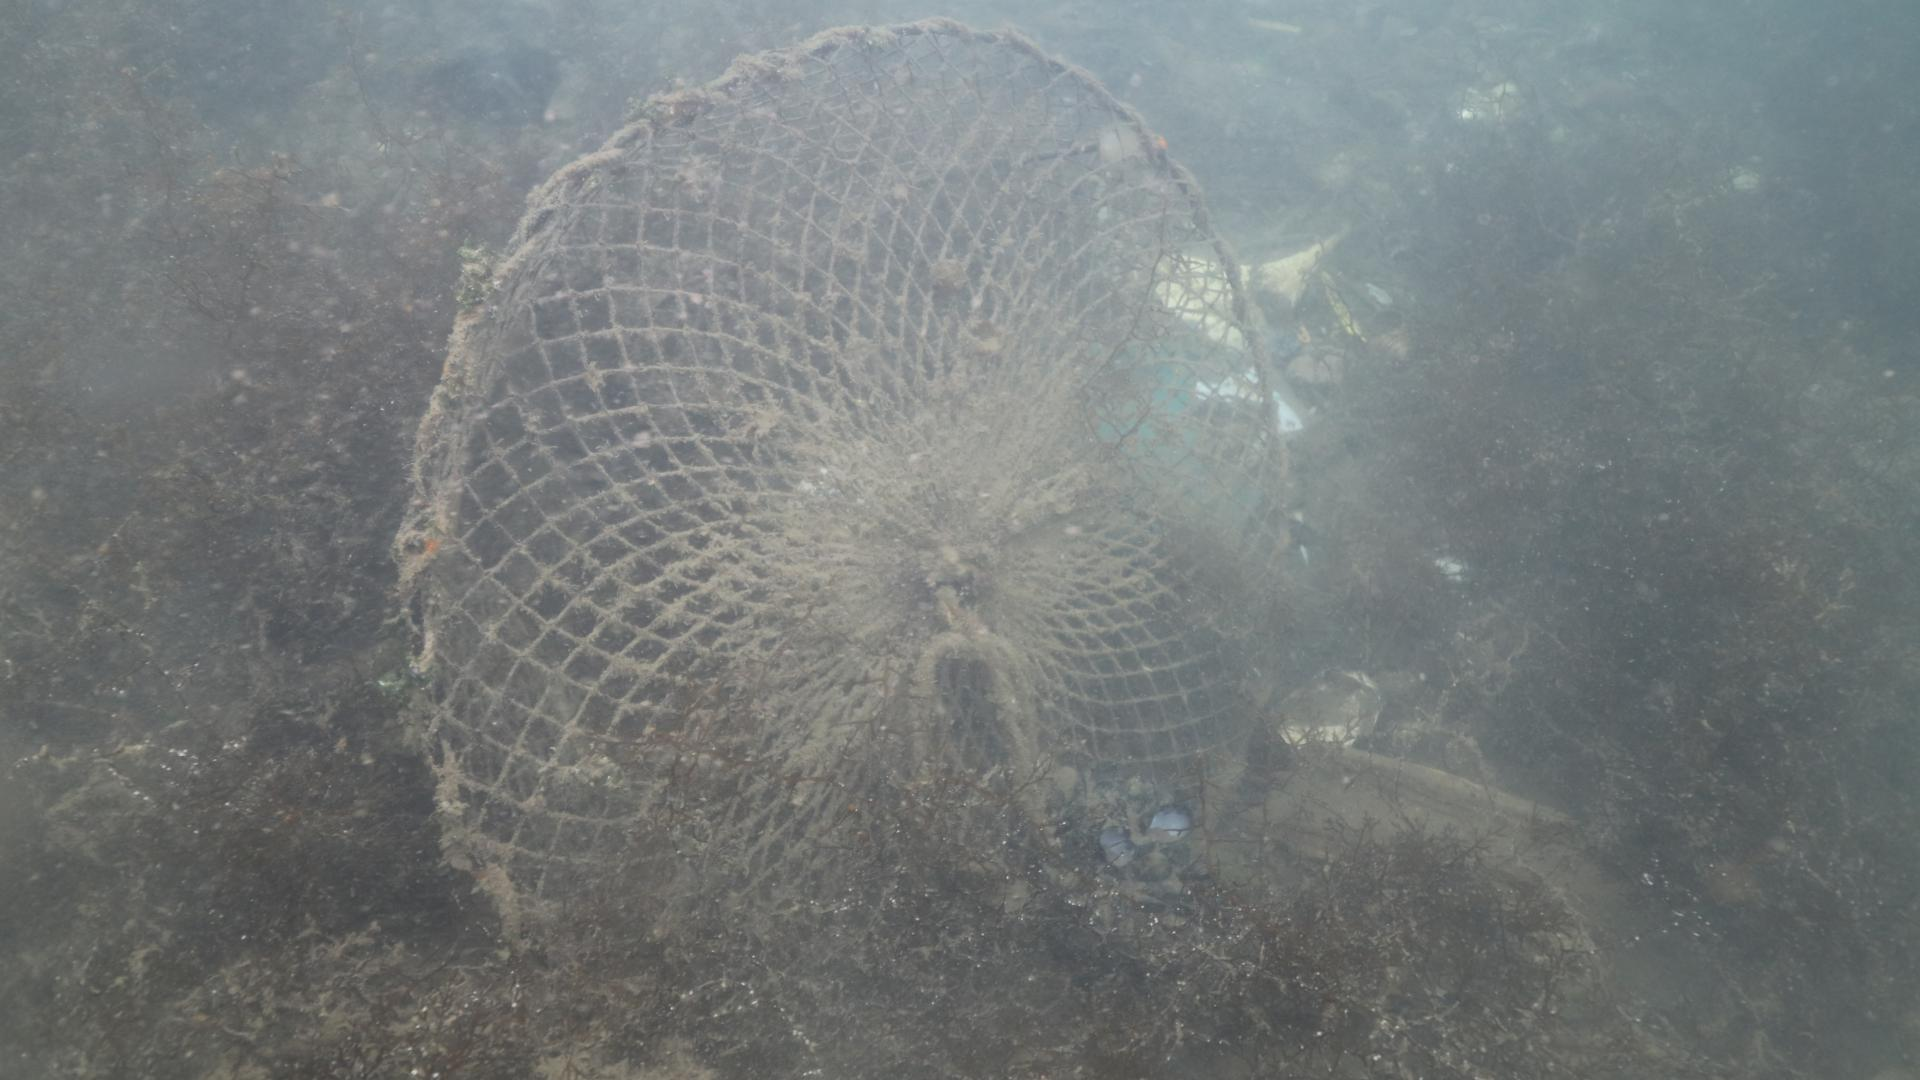circular fish trap: (404, 18, 1296, 1080)
